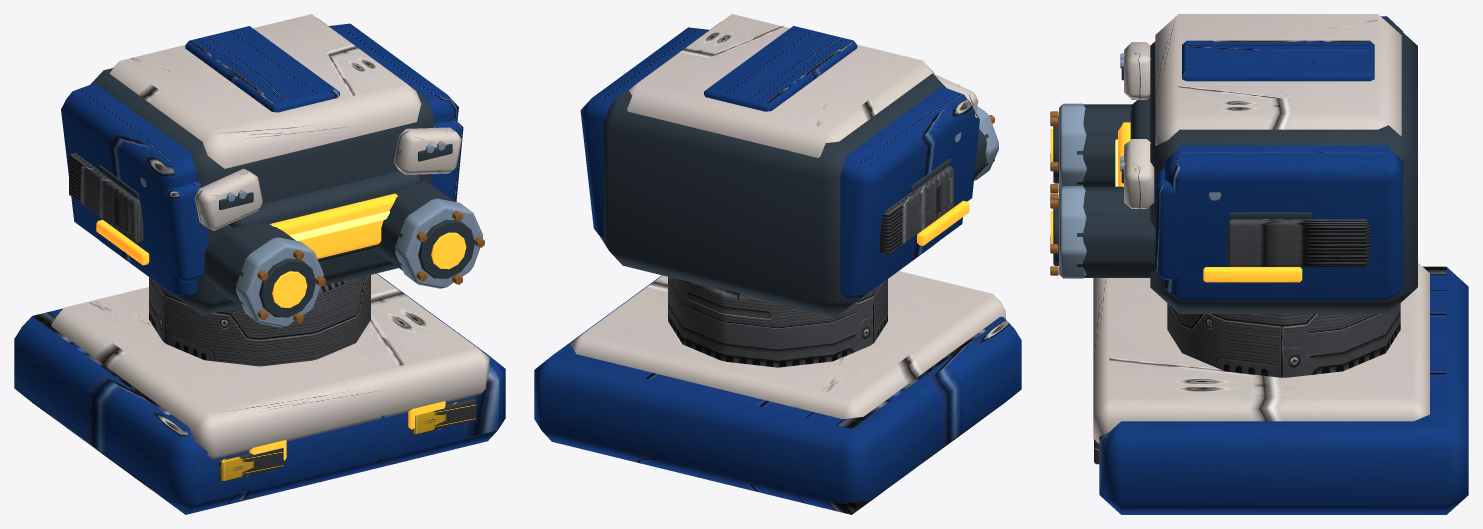
File: turret_armored.glb
3 renders of one model, left to right at view 1: azimuth 30°, elevation 25°; view 2: azimuth 150°, elevation 25°; view 3: azimuth 270°, elevation 25°, orthographic. The views are drawn at different scales.
Visible parts, largest first — view 1: Ceramic, Cobalt, Graphite, Brushed steel, Amber optic, Machined edges, Service caution, Anodized brass, Optic core; view 2: Cobalt, Ceramic, Graphite, Brushed steel, Amber optic, Machined edges; view 3: Cobalt, Ceramic, Graphite, Brushed steel, Machined edges, Amber optic, Anodized brass.
Part boxes in pixels (x1=…): Ceramic: x1=51, y1=14, x2=489, y2=459; Cobalt: x1=14, y1=23, x2=505, y2=514; Graphite: x1=90, y1=18, x2=474, y2=317; Brushed steel: x1=69, y1=153, x2=370, y2=366; Amber optic: x1=96, y1=193, x2=466, y2=460; Machined edges: x1=140, y1=141, x2=482, y2=327; Service caution: x1=219, y1=398, x2=476, y2=481; Anodized brass: x1=257, y1=210, x2=484, y2=323; Optic core: x1=289, y1=211, x2=389, y2=240; Cobalt: x1=534, y1=26, x2=1021, y2=514; Ceramic: x1=571, y1=14, x2=1005, y2=418; Graphite: x1=600, y1=22, x2=988, y2=317; Brushed steel: x1=668, y1=165, x2=953, y2=367; Amber optic: x1=917, y1=200, x2=969, y2=245; Machined edges: x1=955, y1=84, x2=998, y2=180; Cobalt: x1=1099, y1=16, x2=1468, y2=514; Ceramic: x1=1093, y1=14, x2=1429, y2=443; Graphite: x1=1053, y1=19, x2=1417, y2=313; Brushed steel: x1=1167, y1=219, x2=1400, y2=377; Machined edges: x1=1059, y1=53, x2=1221, y2=278; Amber optic: x1=1050, y1=122, x2=1302, y2=282; Anodized brass: x1=1050, y1=111, x2=1058, y2=275.
Bounding box in the file's own units: 1.02 × 1.03 × 1.03.
9 materials, 4 textured.
